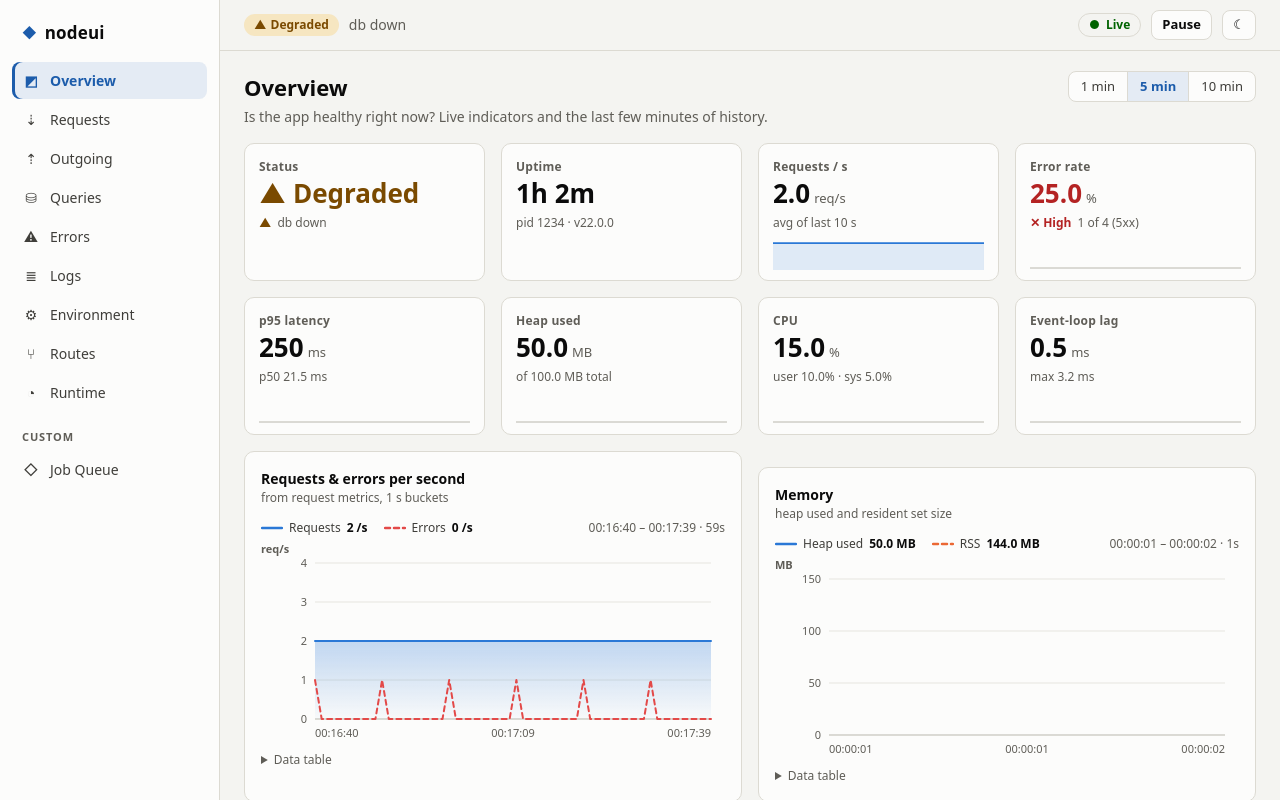
Scenario: header › pause freezes the displayed data and resume catches up
Expected: the element with test id "kpi-uptime" shows "1h 2m", [516,174,595,210]
Click the button "Pause" at {"x": 1182, "y": 25}, box [1151,10,1212,40]
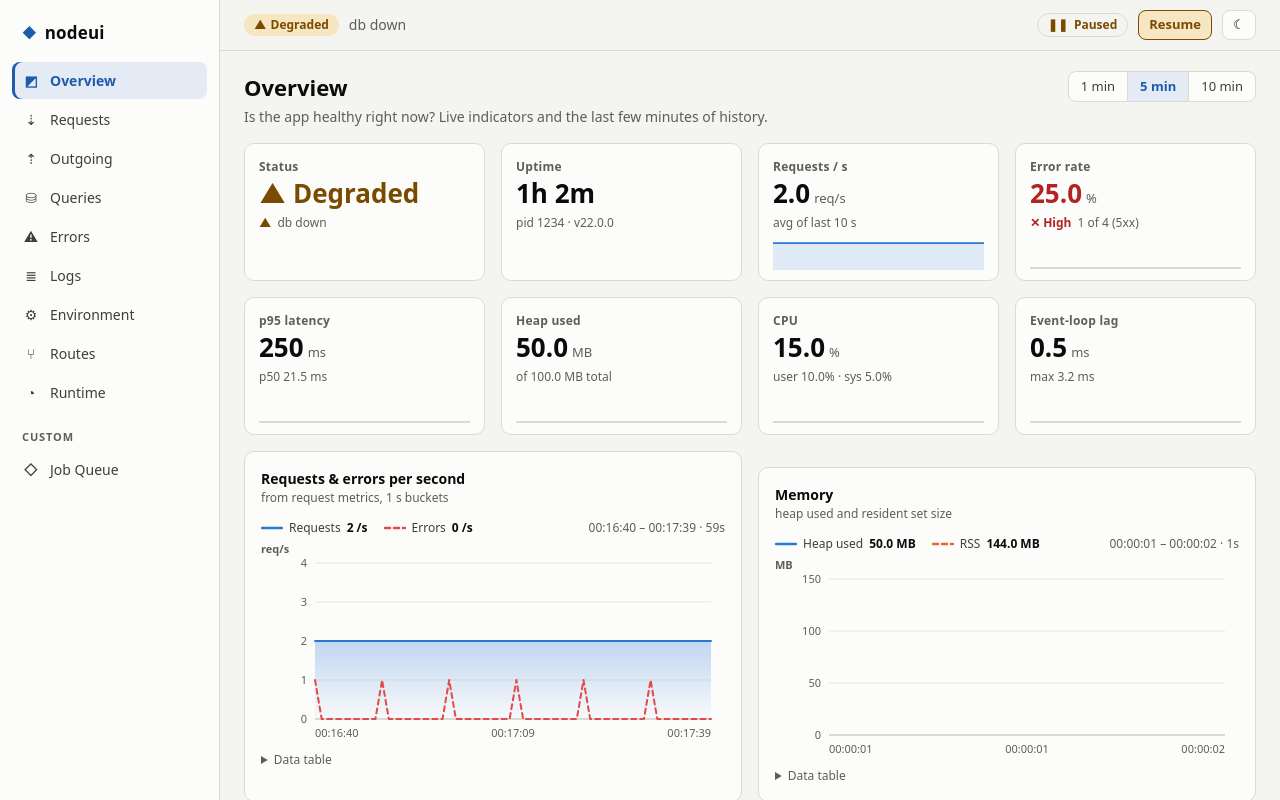
Expected: the element with test id "kpi-uptime" shows "1h 2m", [516,174,595,210]
Now the text "Paused" is shown, box [1074,16,1117,33]
Click the button "Resume" at {"x": 1175, "y": 25}, box [1138,10,1212,40]
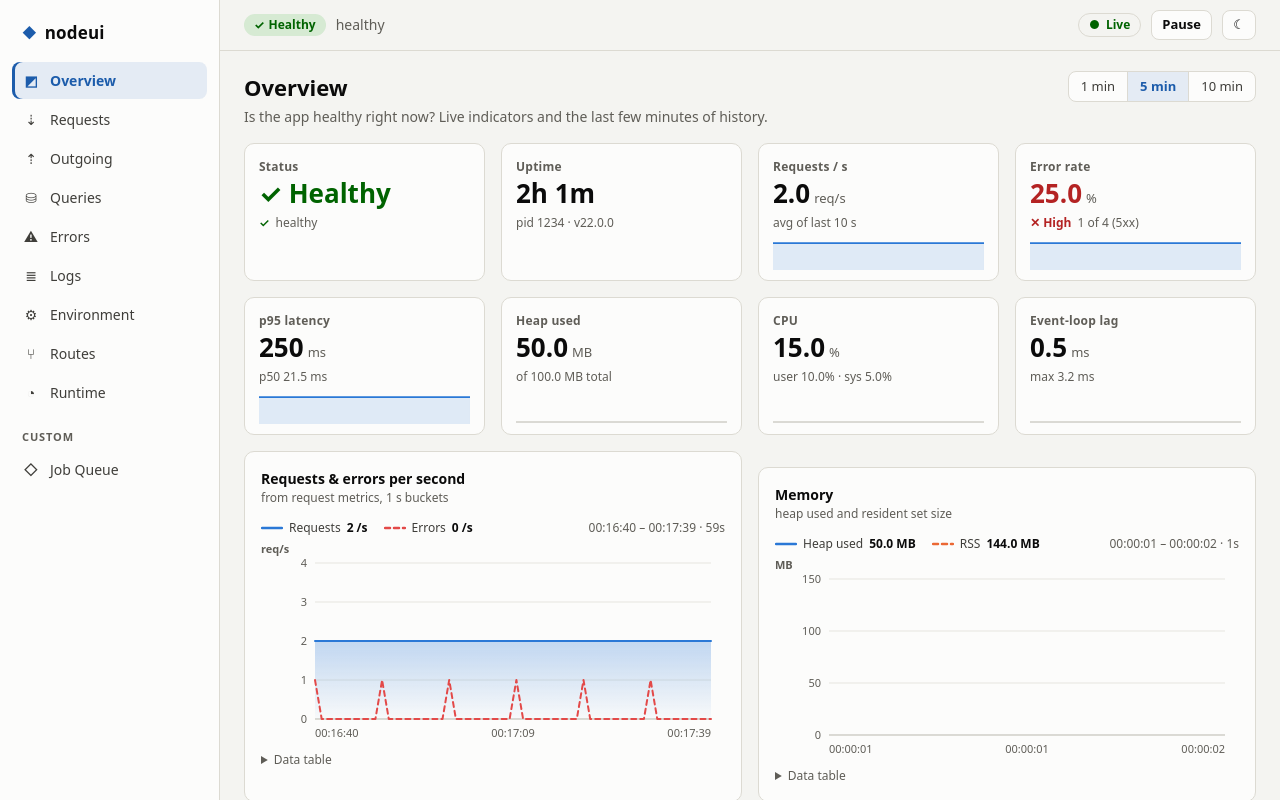
Now the element with test id "kpi-uptime" shows "2h 1m", box [516,174,595,210]
Now the text "Live" is shown, box [1106,16,1130,33]
